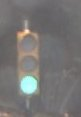Green: (12, 23, 38, 102)
